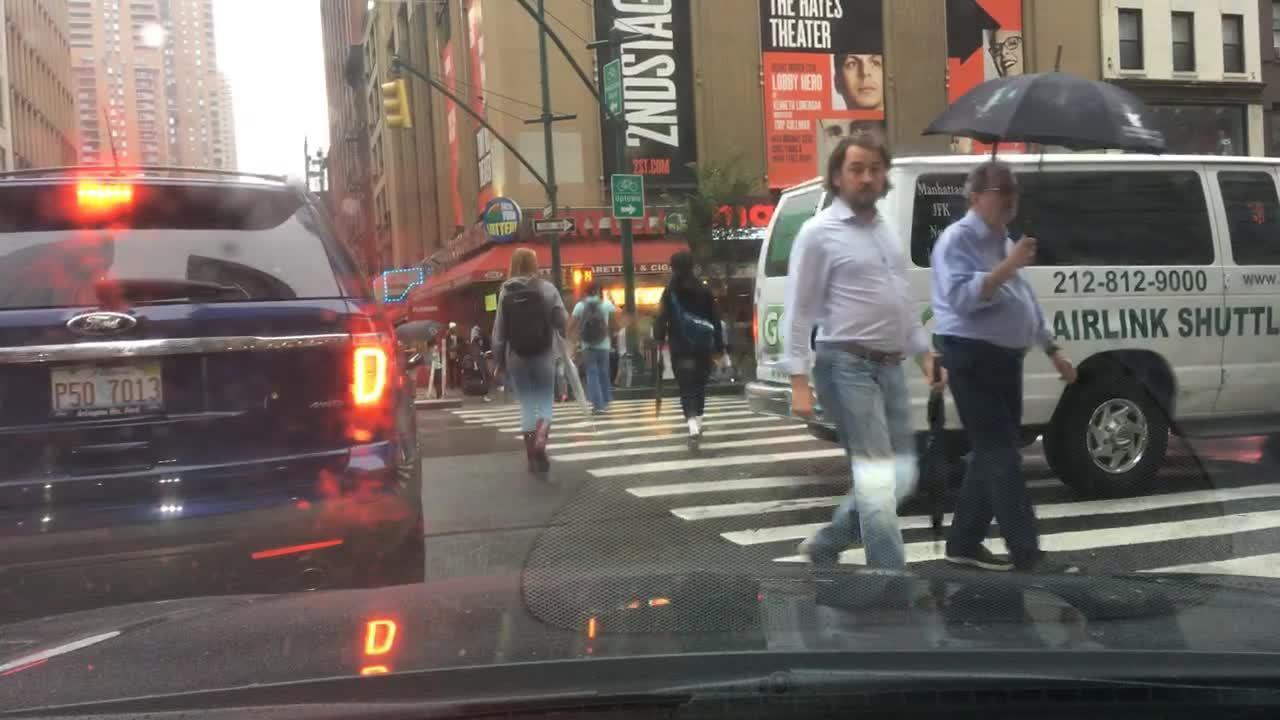ford: (59, 309, 145, 342)
